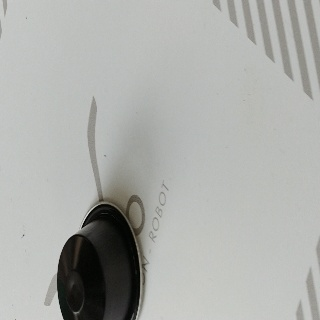capsule_10: (56, 200, 144, 320)
